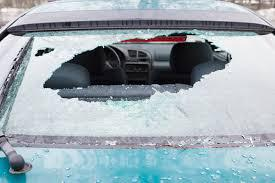Rear-windscreen-Damage: (0, 20, 274, 168)
